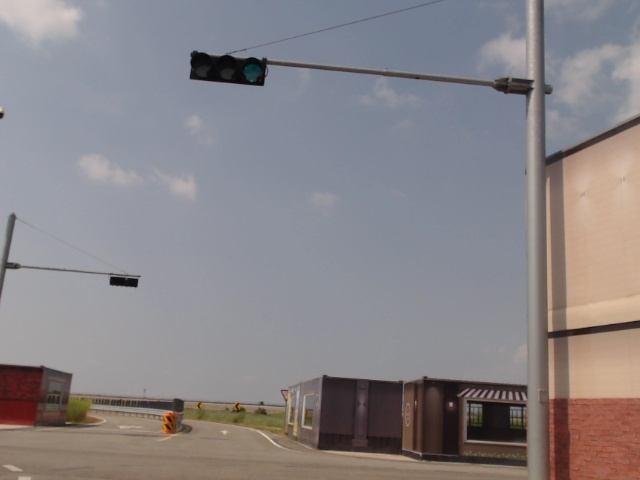green_3: (190, 51, 264, 87)
